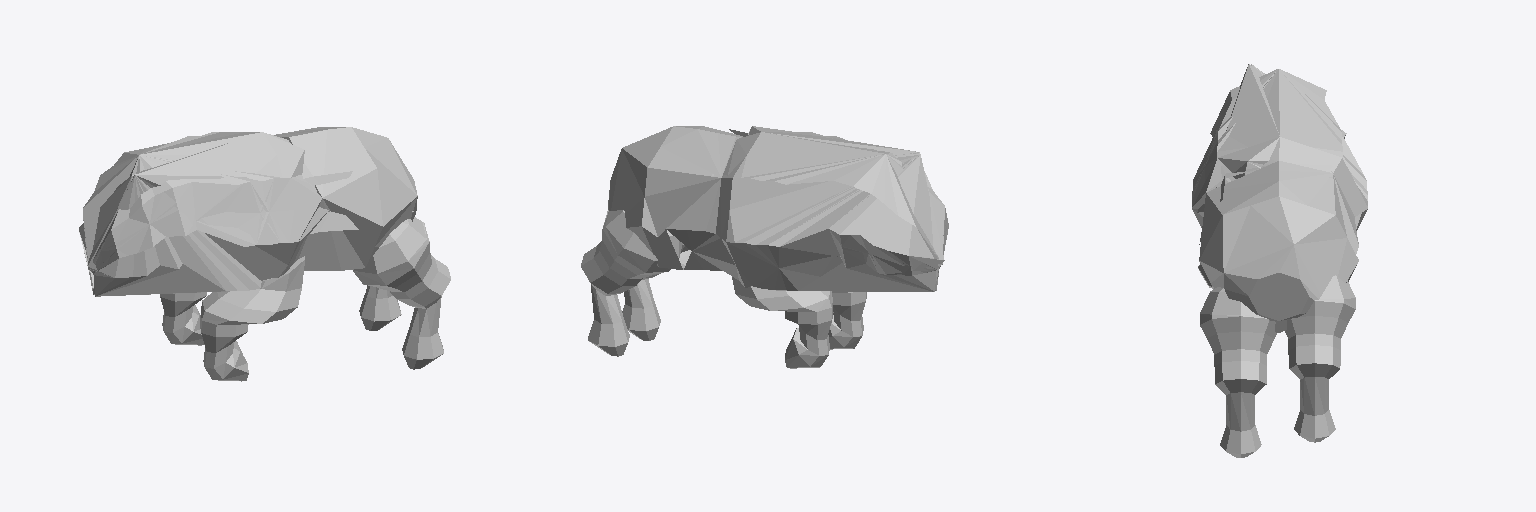
File: auntie.obj
3 views of the same model, side by side, from view 1: azimuth 30°, elevation 25°; view 2: azimuth 150°, elevation 25°; view 3: azimuth 270°, elevation 25° (orthographic).
Visible parts, largest first — view 1: mainBody_Cylinder, backLeftLeg.001_frontLeg.001, backLeftLeg_frontLeg; view 2: mainBody_Cylinder, backLeftLeg_frontLeg, backLeftLeg.001_frontLeg.001; view 3: mainBody_Cylinder, backLeftLeg.001_frontLeg.001, backLeftLeg_frontLeg.
Part boxes in pixels (left/top/right/bottom): mainBody_Cylinder: left=79, top=127, right=417, bottom=296; backLeftLeg.001_frontLeg.001: left=200, top=217, right=450, bottom=381; backLeftLeg_frontLeg: left=160, top=285, right=401, bottom=345; mainBody_Cylinder: left=608, top=126, right=948, bottom=291; backLeftLeg_frontLeg: left=581, top=210, right=833, bottom=368; backLeftLeg.001_frontLeg.001: left=622, top=244, right=866, bottom=349; mainBody_Cylinder: left=1192, top=64, right=1367, bottom=332; backLeftLeg.001_frontLeg.001: left=1198, top=263, right=1276, bottom=457; backLeftLeg_frontLeg: left=1285, top=275, right=1355, bottom=442.
Bounding box in the file's own units: 4.09 × 2.95 × 1.82.